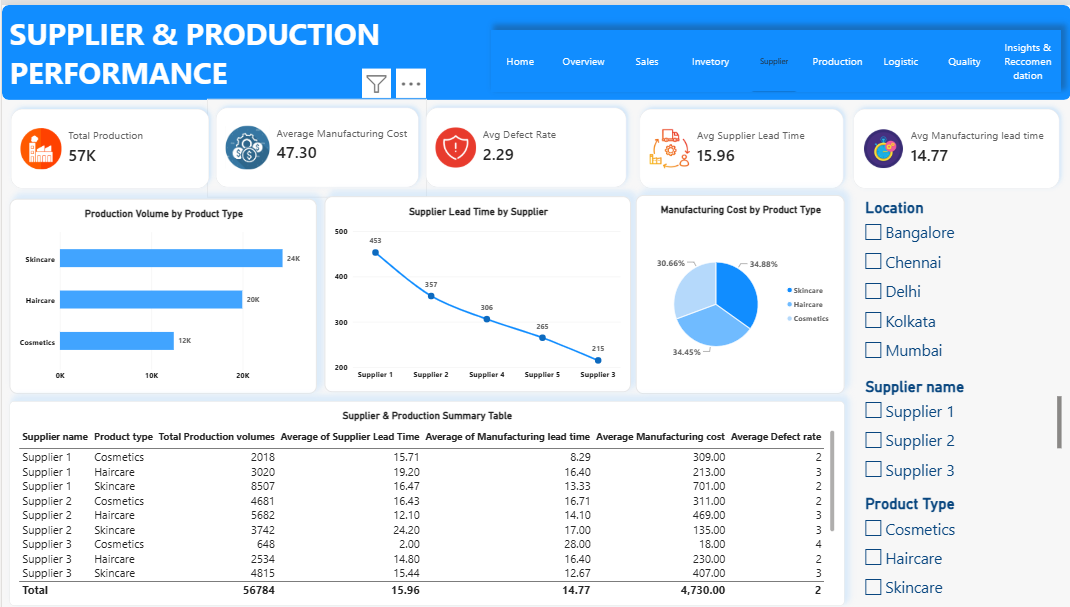

The dashboard page shown, as its layout file describes it:
{"tool":"powerbi","page":{"name":"Supplier","canvas":[1920,1080],"ordinal":4},"visuals":[{"type":"shape","title":"SALES PERFORMANCE                    [Product Type ▼]       │ │ Revenue & Sales Analysis    ","box":[0,0,1920,170.6],"z":0},{"type":"textbox","box":[14.5,14.5,852.4,155.6],"z":1000},{"type":"slicer","fields":{"Values":["supply_chain_data.Product type"]},"box":[1543.4,880.3,377,199.3],"z":2000},{"type":"slicer","fields":{"Values":["supply_chain_data.Supplier name"]},"box":[1543.4,669.1,361.2,191.4],"z":3000},{"type":"slicer","fields":{"Values":["supply_chain_data.Location"]},"box":[1543.4,347.4,359.2,300],"z":4000},{"type":"cardVisual","fields":{"Data":["Avg(supply_chain_data.Manufacturing lead time)"]},"box":[1513.8,169.7,402.6,175.7],"z":5000},{"type":"cardVisual","fields":{"Data":["Measures (2).Avg Supplier Lead Time"]},"box":[1129,169.7,398.7,175.7],"z":6000},{"type":"cardVisual","fields":{"Data":["Measures (2).Average Manufacturing Cost"]},"box":[367.3,169.4,396.7,175.7],"z":7000},{"type":"cardVisual","fields":{"Data":["Measures (2).Average Defect Rate"]},"box":[746.1,169.4,392.8,175.7],"z":8000},{"type":"clusteredBarChart","title":"Production Volume by Product Type","fields":{"Category":["supply_chain_data.Product type"],"Y":["Sum(supply_chain_data.Production volumes)"]},"box":[13.3,348.3,551.9,350.2],"z":9000},{"type":"lineChart","title":"Supplier Lead Time by Supplier","fields":{"Category":["supply_chain_data.Supplier name"],"Y":["Sum(supply_chain_data.Supplier Lead Time)"]},"box":[578.6,344.5,550,352.1],"z":10000},{"type":"pieChart","title":"Manufacturing Cost by Product Type","fields":{"Category":["supply_chain_data.Product type"],"Y":["Avg(supply_chain_data.Manufacturing cost)"]},"box":[1138.1,340.7,374.9,357.8],"z":11000},{"type":"tableEx","title":"Supplier & Production Summary Table","fields":{"Values":["supply_chain_data.Supplier name","supply_chain_data.Product type","Sum(supply_chain_data.Production volumes)","Avg(supply_chain_data.Supplier Lead Time)","Avg(supply_chain_data.Manufacturing lead time)","Sum(supply_chain_data.Manufacturing cost)","Avg(supply_chain_data.Defect rate)"]},"box":[13.3,711.8,1499.8,367.3],"z":12000},{"type":"cardVisual","fields":{"Data":["Measures (2).Total Production"]},"box":[0,169.7,388.8,175.7],"z":13000},{"type":"pageNavigator","box":[878,44.9,1024,112.3],"z":14000}]}

Visuals, with their boxes in screenshot pixels (x1, y1, x2, y2), scaled from the page's 1920x1080 canvas onto the 1070x607 screenshot:
"SALES PERFORMANCE                    [Product Type ▼]       │ │ Revenue & Sales Analysis    " shape: rect(0, 0, 1069, 96)
textbox: rect(8, 8, 483, 96)
slicer - supply_chain_data.Product type: rect(860, 495, 1069, 606)
slicer - supply_chain_data.Supplier name: rect(860, 376, 1061, 484)
slicer - supply_chain_data.Location: rect(860, 195, 1060, 364)
cardVisual - Avg(supply_chain_data.Manufacturing lead time): rect(844, 95, 1068, 194)
cardVisual - Measures (2).Avg Supplier Lead Time: rect(629, 95, 851, 194)
cardVisual - Measures (2).Average Manufacturing Cost: rect(205, 95, 426, 194)
cardVisual - Measures (2).Average Defect Rate: rect(416, 95, 635, 194)
"Production Volume by Product Type" clusteredBarChart: rect(7, 196, 315, 393)
"Supplier Lead Time by Supplier" lineChart: rect(322, 194, 629, 392)
"Manufacturing Cost by Product Type" pieChart: rect(634, 191, 843, 393)
"Supplier & Production Summary Table" tableEx: rect(7, 400, 843, 606)
cardVisual - Measures (2).Total Production: rect(0, 95, 217, 194)
pageNavigator: rect(489, 25, 1060, 88)
